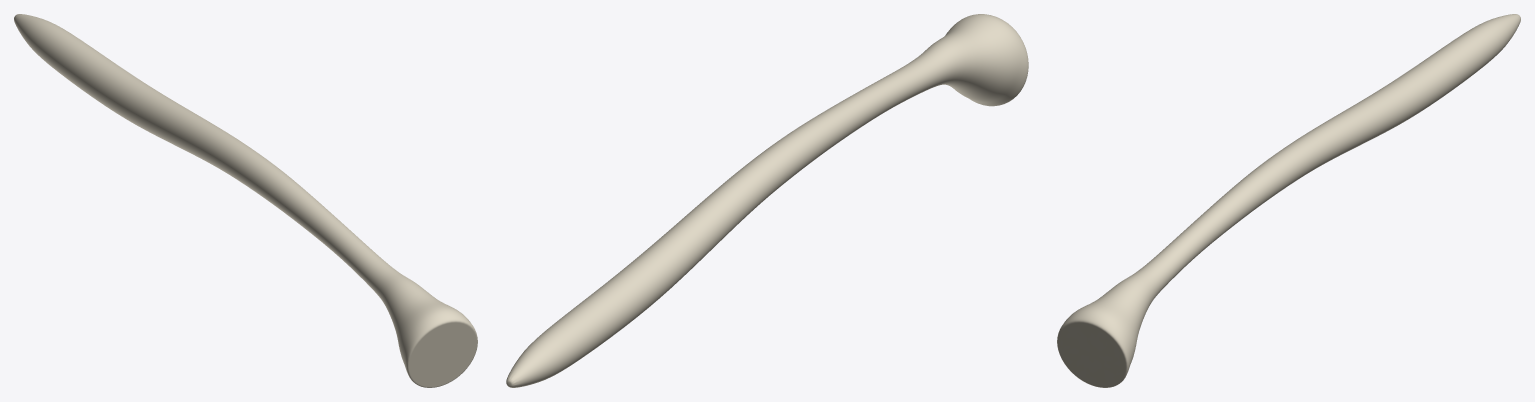
The model's file is YellowAppleStalk.obj.
3 views of the same model, side by side, from view 1: azimuth 30°, elevation 25°; view 2: azimuth 150°, elevation 25°; view 3: azimuth 330°, elevation 25° (orthographic). The views are drawn at different scales.
Parts seen in each view (by area): view 1: YellowAppleStalk; view 2: YellowAppleStalk; view 3: YellowAppleStalk.
Boxes of the visible parts, x1=… form: YellowAppleStalk: x1=14, y1=14, x2=477, y2=387; YellowAppleStalk: x1=506, y1=14, x2=1028, y2=387; YellowAppleStalk: x1=1057, y1=14, x2=1520, y2=387.
Bounding box in the file's own units: 0.00269 × 0.00352 × 0.0284.
